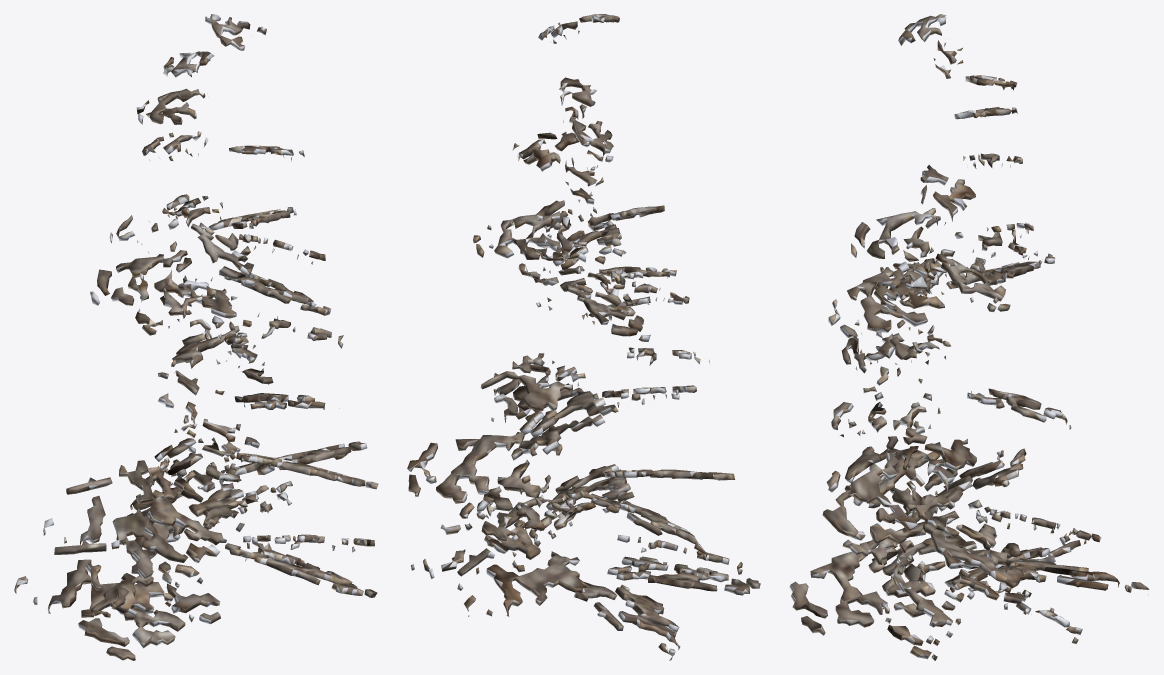
The model's file is CW_CardedAlpineFir_SnowCover.fbx.
The picture shows the model from 3 angles, left to right: view 1: azimuth 30°, elevation 25°; view 2: azimuth 150°, elevation 25°; view 3: azimuth 270°, elevation 25°; orthographic projection. The views are drawn at different scales.
Parts seen in each view (by area): view 1: CW_CardedAlpineFir_SnowCover; view 2: CW_CardedAlpineFir_SnowCover; view 3: CW_CardedAlpineFir_SnowCover.
Boxes of the visible parts, x1,y1,x2,y2 form: CW_CardedAlpineFir_SnowCover: (14, 14, 378, 660); CW_CardedAlpineFir_SnowCover: (407, 14, 760, 660); CW_CardedAlpineFir_SnowCover: (789, 14, 1149, 660).
Size of the model in its own units: 3.8 by 6.92 by 3.73.
